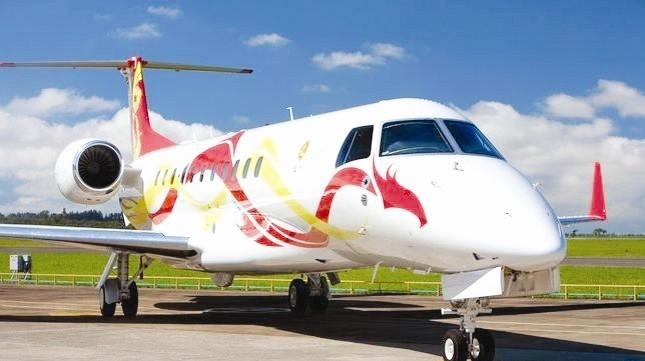airplane: (1, 48, 568, 361)
